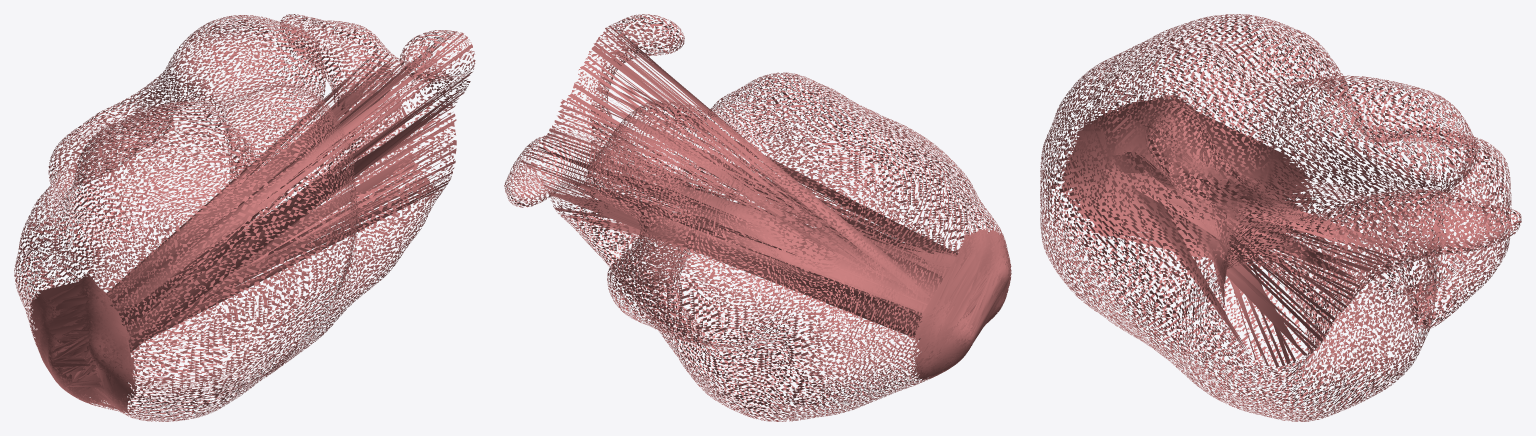
Rendered from heart.glb.
3 renders of one model, left to right at view 1: azimuth 30°, elevation 25°; view 2: azimuth 150°, elevation 25°; view 3: azimuth 270°, elevation 25°, orthographic. The views are drawn at different scales.
Bounding box in the file's own units: 114 × 89.22 × 97.77.
